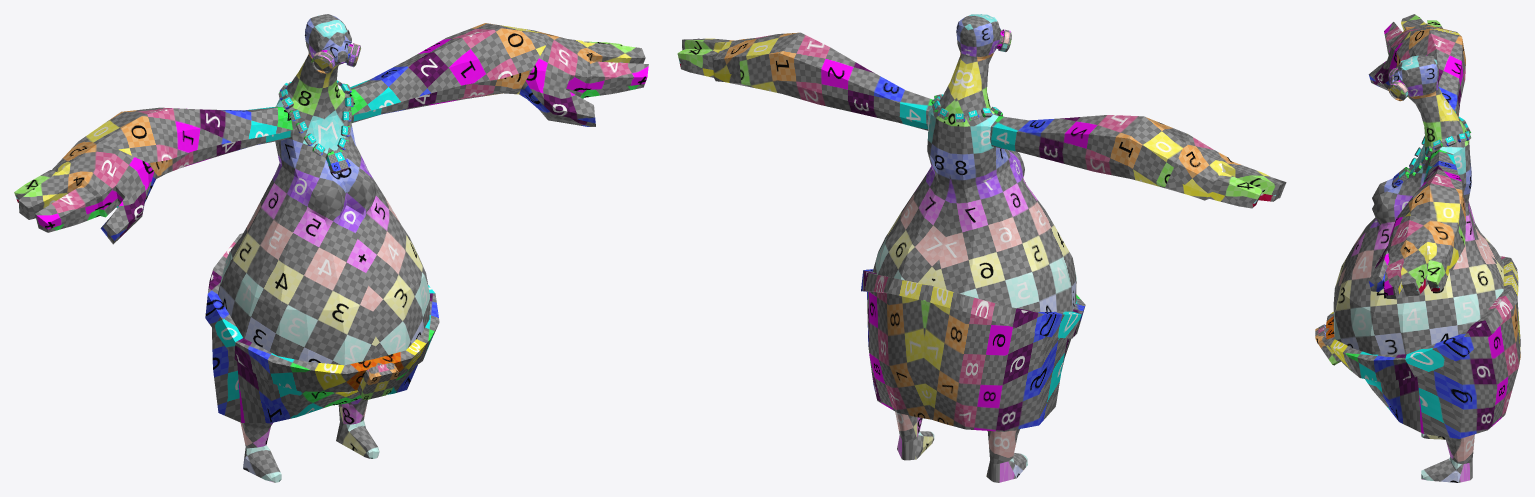
File: Daisy.fbx
The picture shows the model from 3 angles, left to right: view 1: azimuth 30°, elevation 25°; view 2: azimuth 150°, elevation 25°; view 3: azimuth 270°, elevation 25°; orthographic projection. The views are drawn at different scales.
Parts seen in each view (by area): view 1: Daisy3, necklace_chain18, skirt_buckle, filter; view 2: Daisy3; view 3: Daisy3, necklace_chain18, skirt_buckle, filter.
Boxes of the visible parts, <box> form: Daisy3: <box>14,14,648,482</box>; necklace_chain18: <box>278,80,353,155</box>; skirt_buckle: <box>357,362,399,400</box>; filter: <box>311,43,360,73</box>; Daisy3: <box>677,14,1286,482</box>; Daisy3: <box>1325,14,1520,482</box>; necklace_chain18: <box>1409,116,1471,177</box>; skirt_buckle: <box>1315,324,1340,365</box>; filter: <box>1388,67,1408,101</box>.
Bounding box in the file's own units: 20.09 × 13.92 × 6.49.
Materials: 2 (2 with a texture image).
